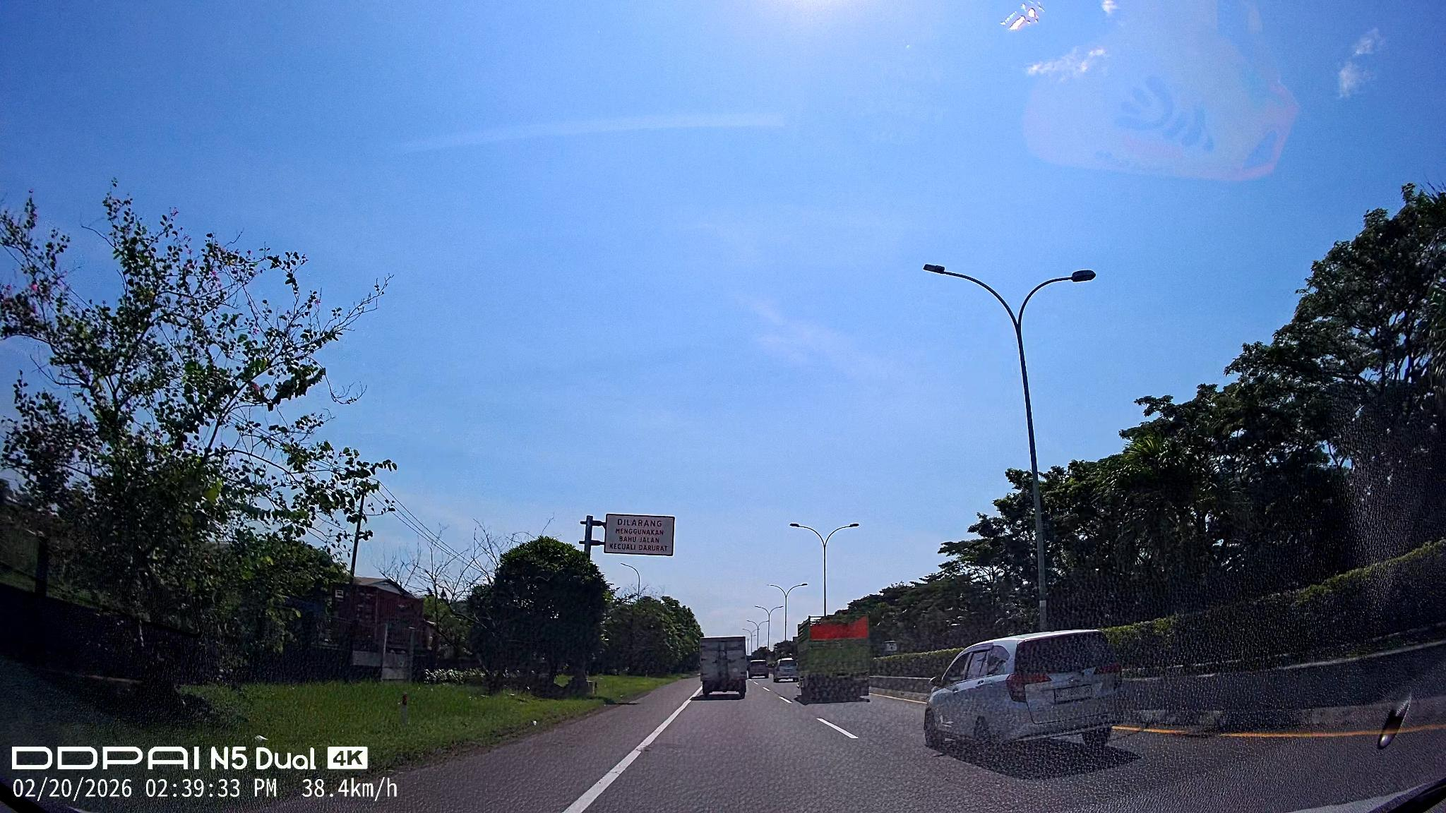rambu_teks: (603, 513, 676, 557)
